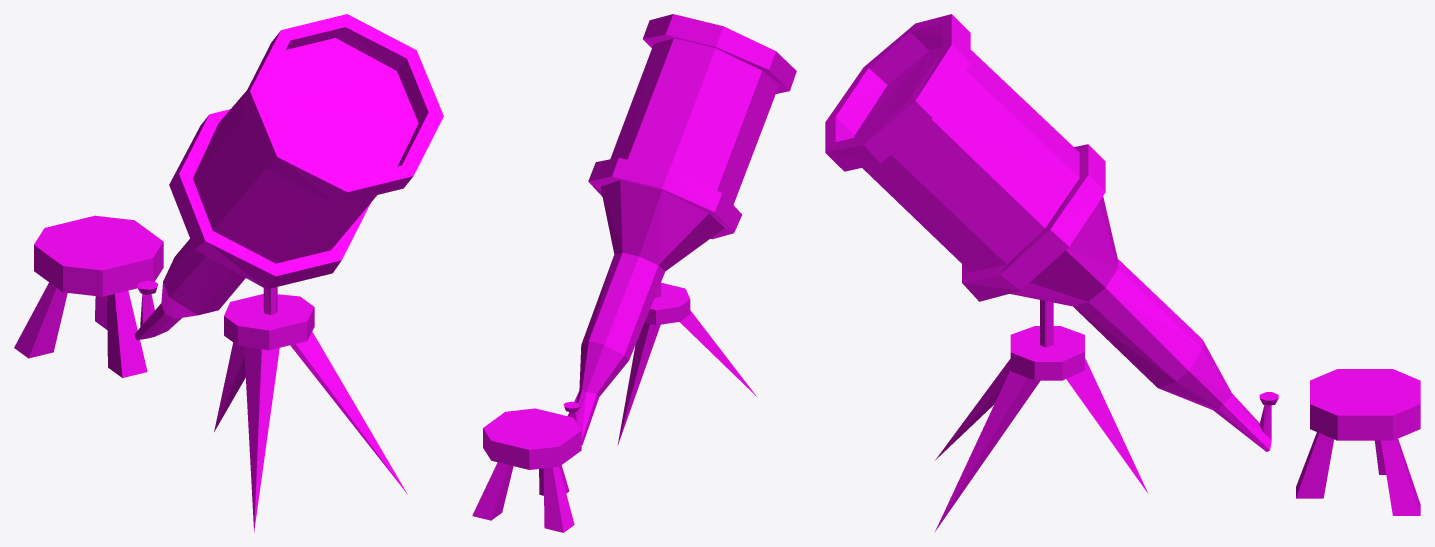
Rendered from telescope.obj.
3 renders of one model, left to right at view 1: azimuth 30°, elevation 25°; view 2: azimuth 150°, elevation 25°; view 3: azimuth 270°, elevation 25°, orthographic. The views are drawn at different scales.
Visible parts, largest first — view 1: telescope_back; view 2: telescope_back; view 3: telescope_back.
Part boxes in pixels (x1=…): telescope_back: x1=14, y1=14, x2=443, y2=532; telescope_back: x1=472, y1=14, x2=796, y2=532; telescope_back: x1=825, y1=14, x2=1420, y2=532.
Size of the model in its own units: 1.07 by 2.96 by 3.44.
